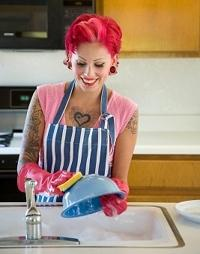person: (17, 14, 139, 219)
